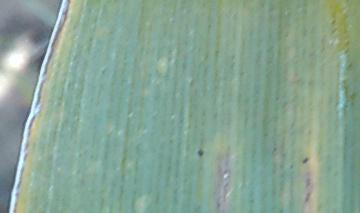tarspot: (303, 172, 313, 189), (303, 190, 312, 205), (328, 25, 340, 36), (196, 147, 205, 159), (98, 65, 108, 75), (300, 155, 309, 166), (329, 17, 337, 25)
